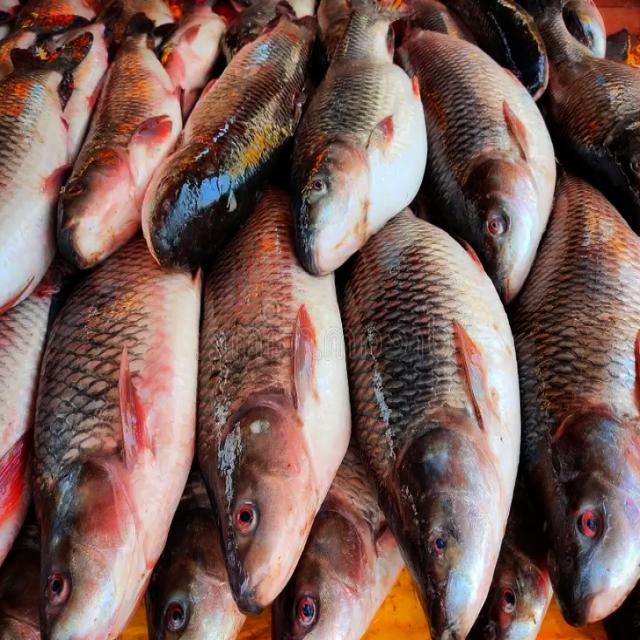Rohu: (336, 216, 525, 640), (195, 177, 354, 615), (505, 169, 640, 618), (388, 12, 557, 301)
